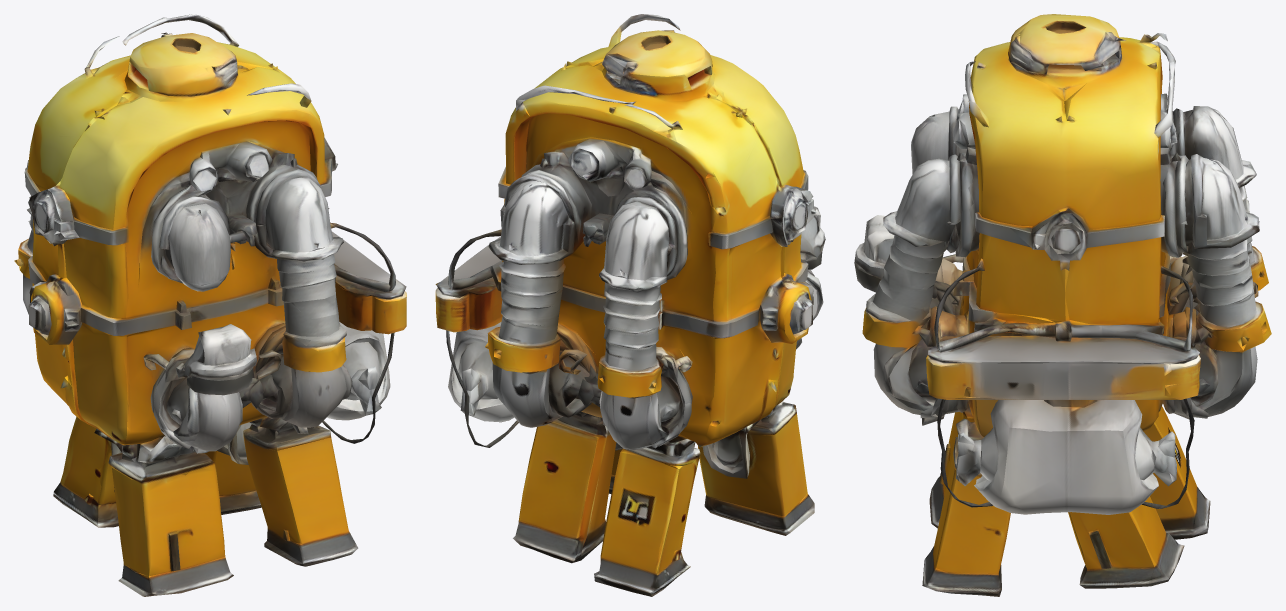
File: jetpack.glb
3 renders of one model, left to right at view 1: azimuth 30°, elevation 25°; view 2: azimuth 150°, elevation 25°; view 3: azimuth 270°, elevation 25°, orthographic. The views are drawn at different scales.
Visible parts, largest first — view 1: model; view 2: model; view 3: model.
Part boxes in pixels (x1,y1,x2,y2): model: (14,14,406,596); model: (435,14,825,596); model: (854,14,1271,596).
Bounding box in the file's own units: 0.4192 × 0.6 × 0.4397.
Materials: 1 (1 with a texture image).
